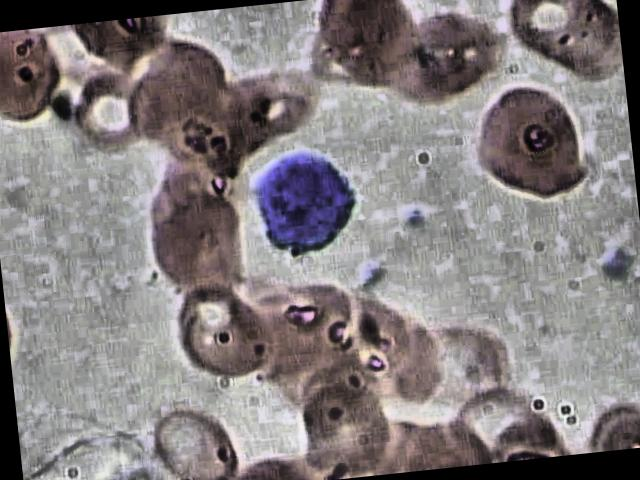Platelets: (602, 244, 634, 282), (351, 256, 387, 288), (397, 202, 432, 234)
RBC: (462, 72, 606, 214), (310, 288, 425, 406), (249, 265, 364, 382), (399, 298, 518, 410), (160, 278, 278, 390), (391, 4, 516, 108), (140, 185, 252, 294), (301, 0, 425, 92), (156, 81, 262, 182), (296, 373, 396, 480), (228, 50, 334, 150), (521, 0, 624, 92), (149, 388, 249, 480), (61, 64, 152, 162), (0, 26, 74, 130), (500, 0, 604, 69), (70, 14, 182, 70)
WBC: (248, 144, 364, 266)
